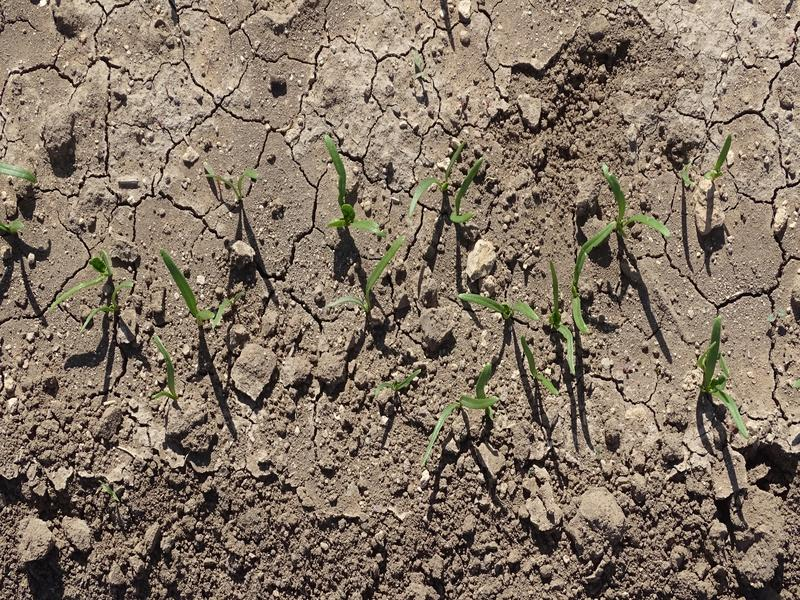Espinaca: (576, 173, 672, 259), (43, 253, 138, 323), (704, 316, 753, 441), (329, 237, 411, 311), (154, 247, 233, 322), (321, 135, 381, 233), (413, 146, 481, 224), (431, 361, 495, 438), (459, 289, 540, 322), (203, 159, 261, 202), (152, 332, 185, 404), (561, 295, 583, 368), (1, 163, 42, 185)
